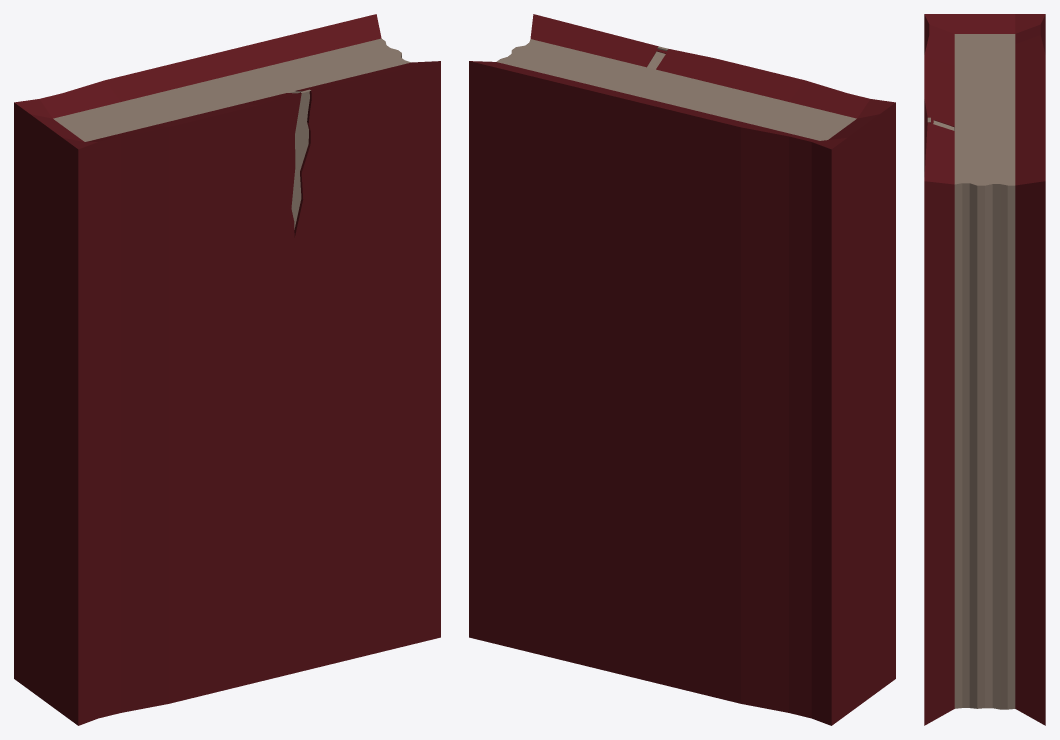
File: book.fbx
3 renders of one model, left to right at view 1: azimuth 30°, elevation 25°; view 2: azimuth 150°, elevation 25°; view 3: azimuth 270°, elevation 25°, orthographic. The views are drawn at different scales.
Visible parts, largest first — view 1: Cube; view 2: Cube; view 3: Cube.
Boxes of the visible parts, <box> form: Cube: <box>14,14,440,725</box>; Cube: <box>469,14,895,725</box>; Cube: <box>924,14,1045,725</box>.
Bounding box in the file's own units: 200 × 304 × 61.41.
